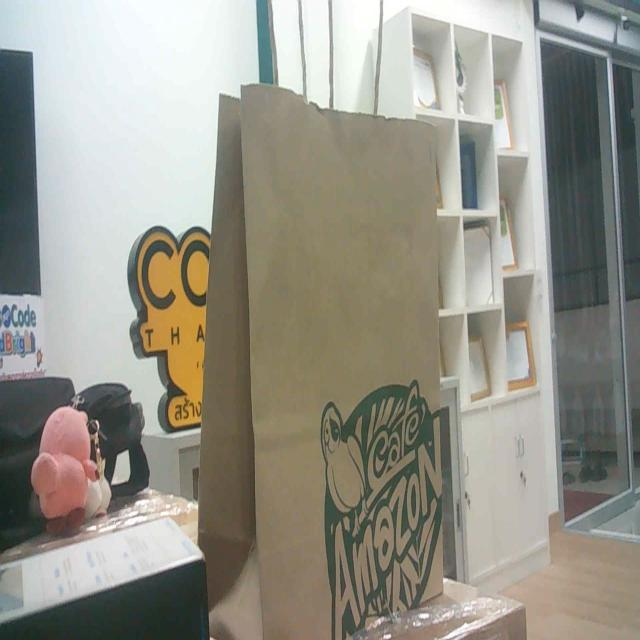bag: (189, 28, 477, 640)
